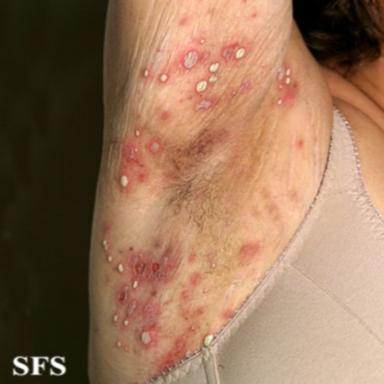Impetigo: (118, 139, 147, 193), (158, 334, 188, 371), (276, 59, 298, 107), (131, 253, 168, 281), (136, 323, 158, 349), (182, 49, 209, 69), (221, 42, 249, 60), (239, 243, 260, 257), (146, 139, 163, 155), (117, 286, 129, 301), (127, 300, 137, 316), (196, 100, 212, 109), (196, 80, 207, 92), (204, 335, 214, 347), (209, 63, 219, 73), (144, 304, 153, 313), (102, 240, 109, 251), (103, 223, 110, 233), (134, 127, 141, 137), (209, 75, 217, 83), (160, 73, 167, 82), (117, 264, 124, 272), (133, 281, 138, 289), (189, 325, 195, 331), (113, 315, 118, 322), (144, 70, 149, 76), (211, 263, 216, 269), (232, 91, 238, 96), (124, 320, 129, 325), (108, 256, 112, 262), (117, 341, 121, 347), (200, 39, 205, 43), (124, 347, 128, 351)
